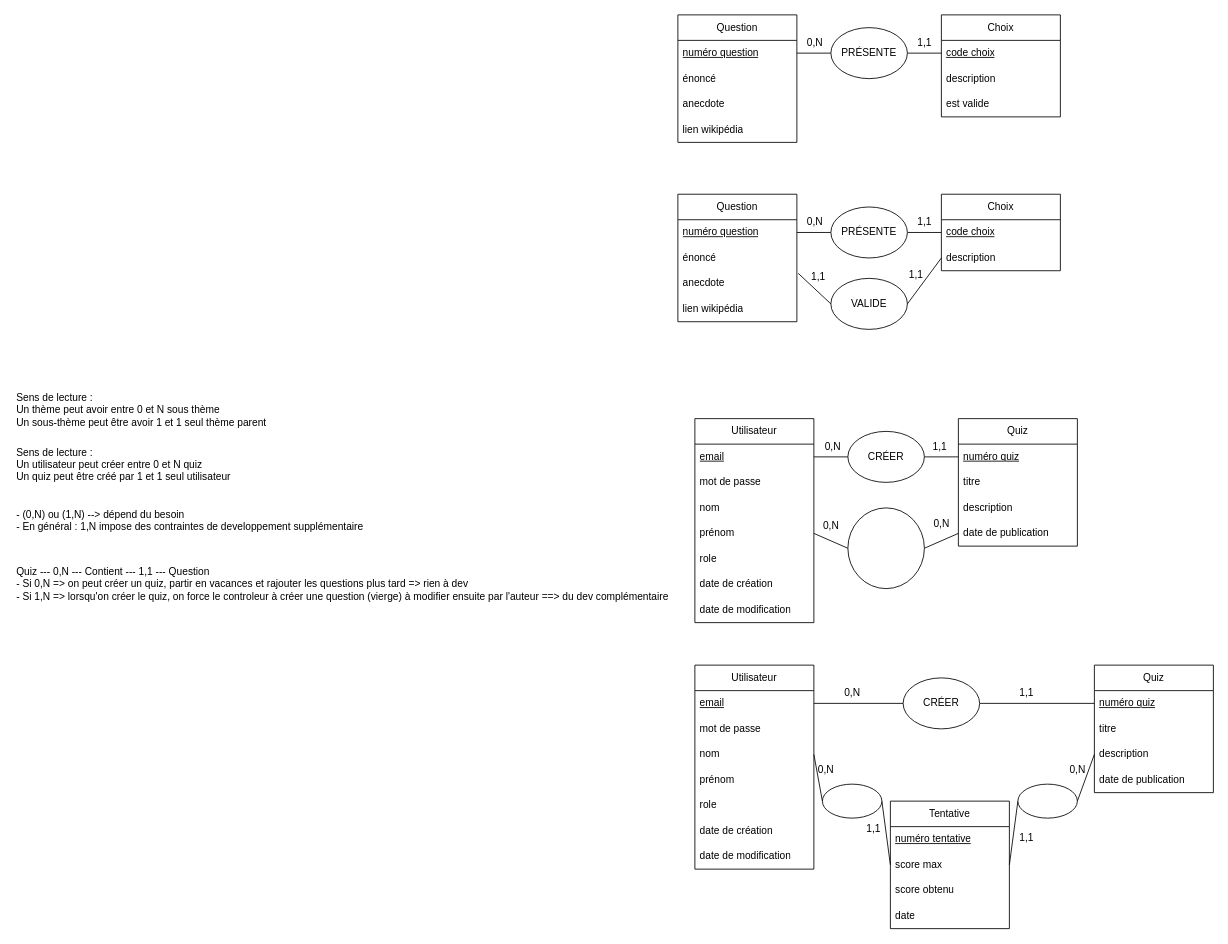
Some shapes in this 1228 by 944 pixel diagram are drawn without their labels. Here are the shapes that lost their labels. From the top down, the centre of each, then its label:
At pixel 885 548: "JOUER ---------------------- score max score obtenu date".
At pixel 852 800: "TENTE".
At pixel 1047 800: "ETRE TENTÉ".
